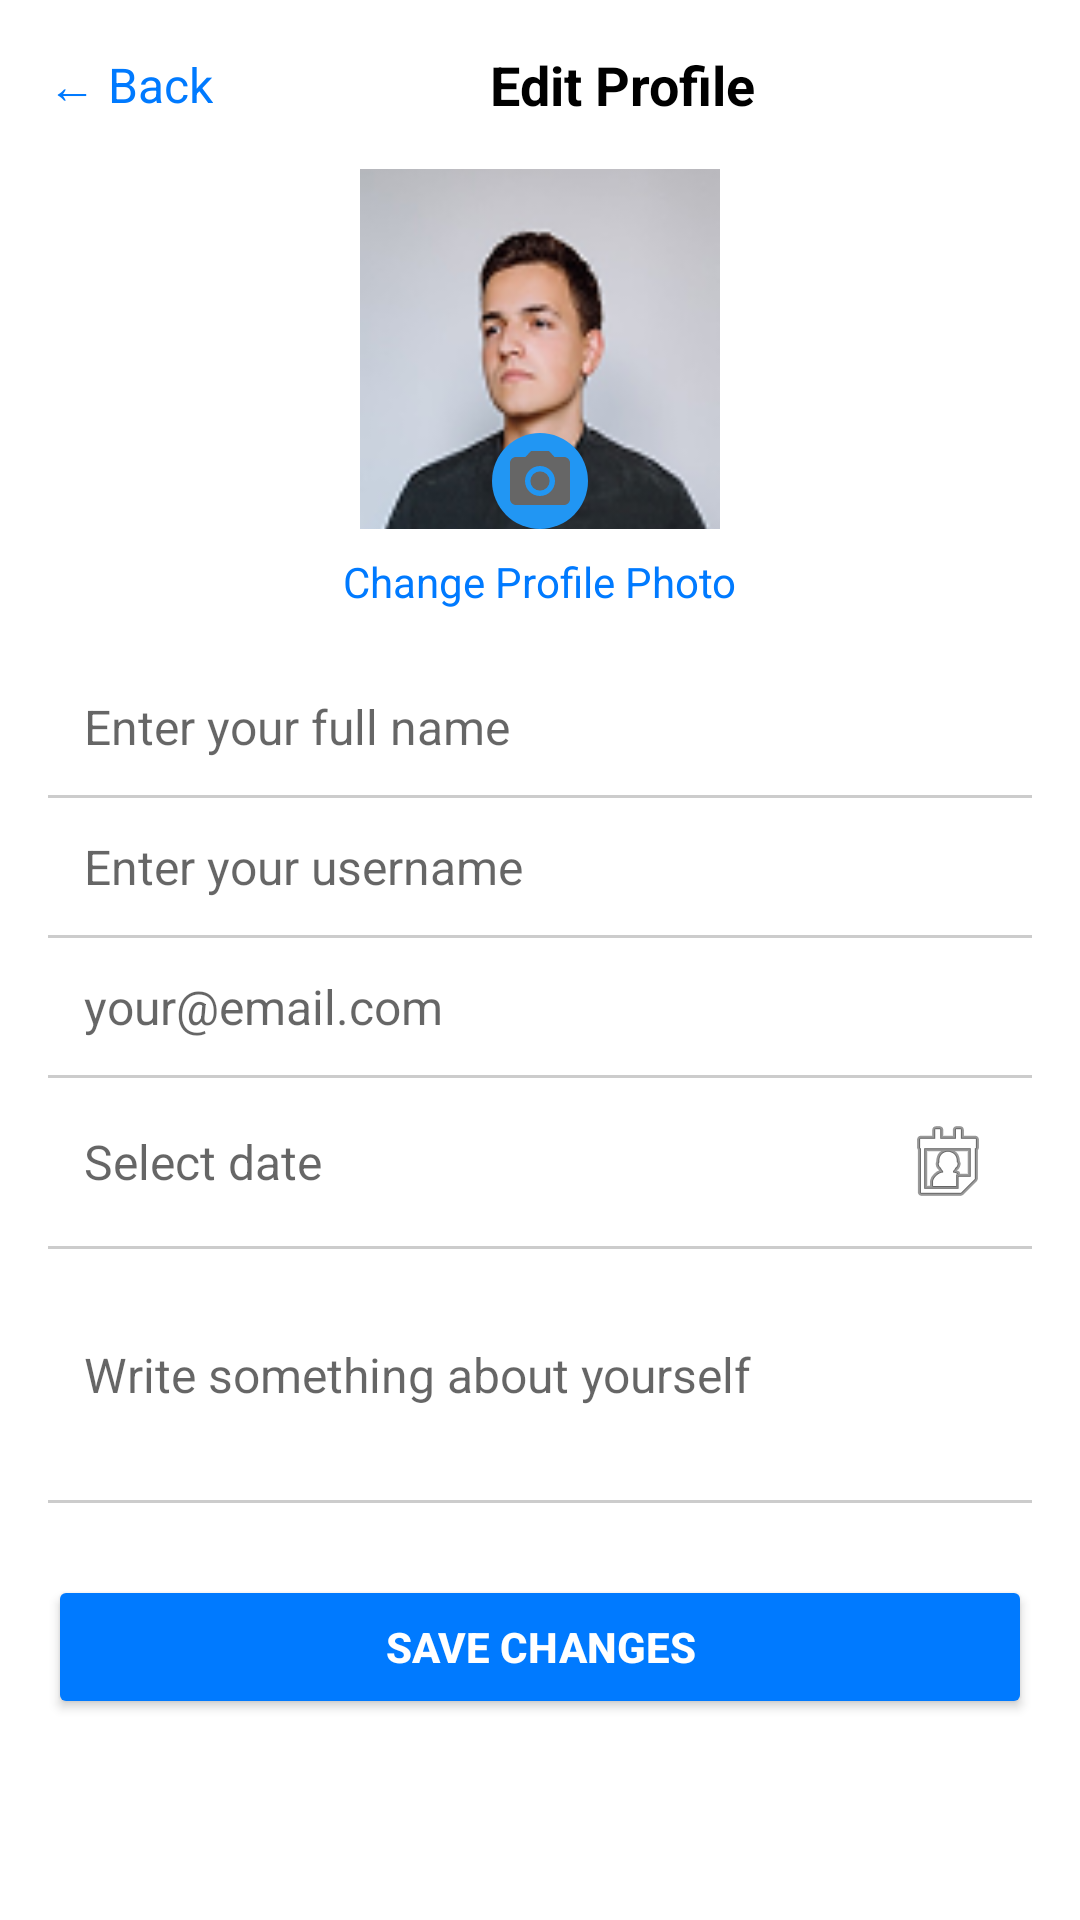

Icon click points for this 1080x1920 phone screenshot, format point (x, y):
camera: point (540, 481)
